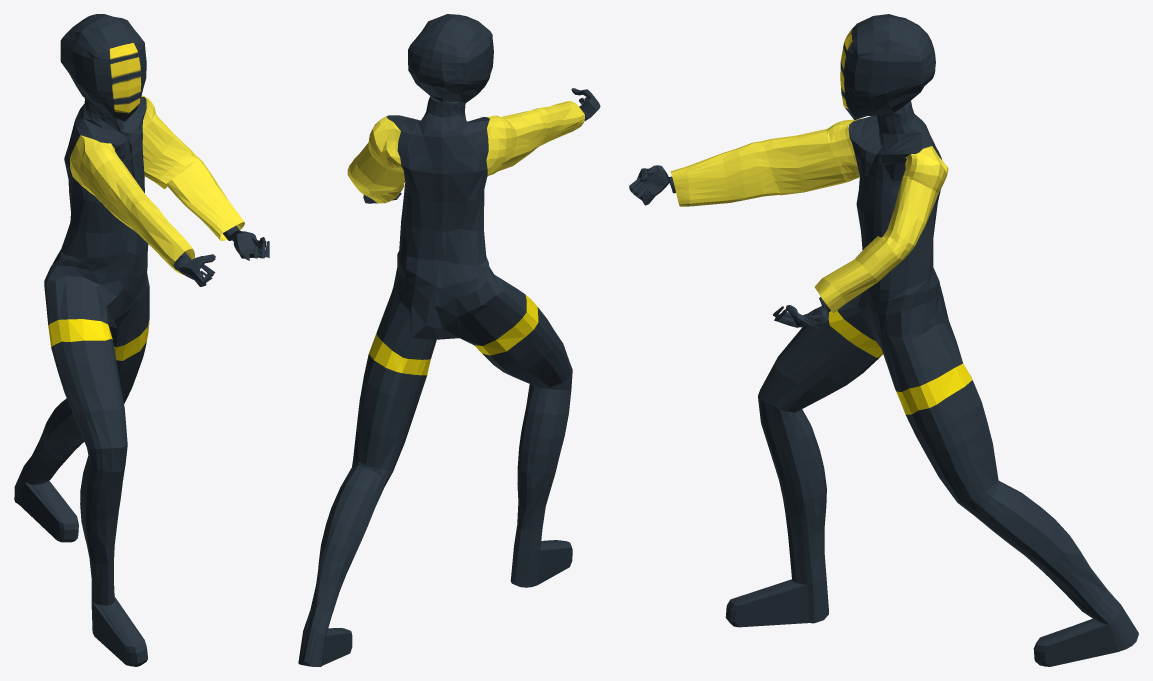
The model's file is Sentry_Attack_000032.obj.
The picture shows the model from 3 angles, left to right: view 1: azimuth 30°, elevation 25°; view 2: azimuth 150°, elevation 25°; view 3: azimuth 270°, elevation 25°; orthographic projection. The views are drawn at different scales.
Parts seen in each view (by area): view 1: Cube; view 2: Cube; view 3: Cube.
Boxes of the visible parts, x1,y1,x2,y2 form: Cube: [14, 14, 269, 666]; Cube: [298, 14, 600, 666]; Cube: [629, 14, 1138, 666].
Bounding box in the file's own units: 1.25 × 3.68 × 2.72.
